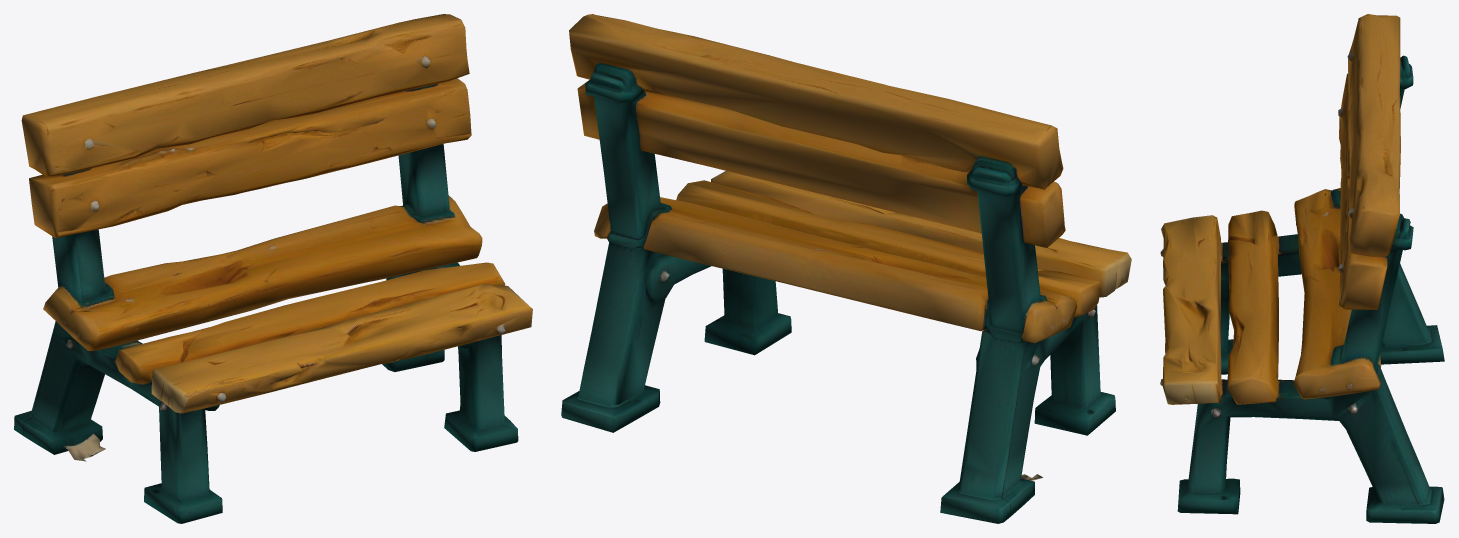
The model's file is mall_bench_3000.glb.
3 views of the same model, side by side, from view 1: azimuth 30°, elevation 25°; view 2: azimuth 150°, elevation 25°; view 3: azimuth 270°, elevation 25° (orthographic). The views are drawn at different scales.
Visible parts, largest first — view 1: tripo_node_821243c3-fe64-46fc-9f4e-bd4d9db62e18; view 2: tripo_node_821243c3-fe64-46fc-9f4e-bd4d9db62e18; view 3: tripo_node_821243c3-fe64-46fc-9f4e-bd4d9db62e18.
Boxes of the visible parts, x1,y1,x2,y2 form: tripo_node_821243c3-fe64-46fc-9f4e-bd4d9db62e18: [14, 14, 532, 523]; tripo_node_821243c3-fe64-46fc-9f4e-bd4d9db62e18: [561, 14, 1131, 523]; tripo_node_821243c3-fe64-46fc-9f4e-bd4d9db62e18: [1160, 14, 1444, 523].
Bounding box in the file's own units: 0.9806 × 0.7438 × 0.5917.
1 material, 1 textured.
